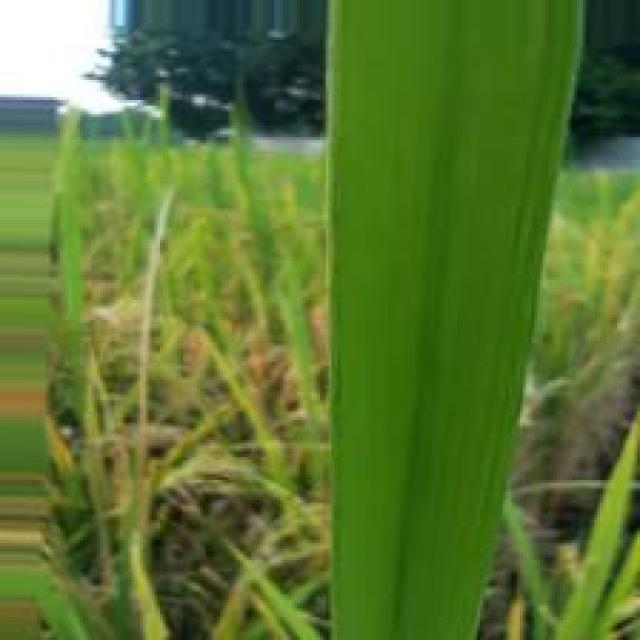HealthyLeaf: (329, 0, 587, 639)
